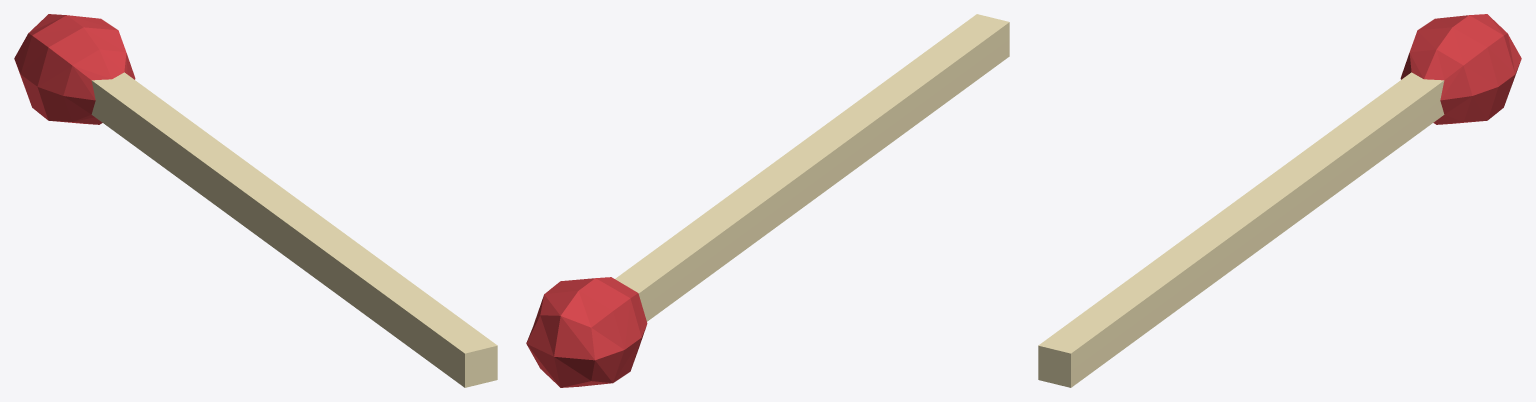
The model's file is Matchstick.glb.
3 renders of one model, left to right at view 1: azimuth 30°, elevation 25°; view 2: azimuth 150°, elevation 25°; view 3: azimuth 330°, elevation 25°, orthographic.
Parts seen in each view (by area): view 1: Node; view 2: Node; view 3: Node.
Part boxes in pixels (x1,y1,x2,y2): Node: [14, 14, 497, 387]; Node: [526, 14, 1009, 387]; Node: [1038, 14, 1521, 387].
Bounding box in the file's own units: 1.1 × 1.1 × 9.08.
